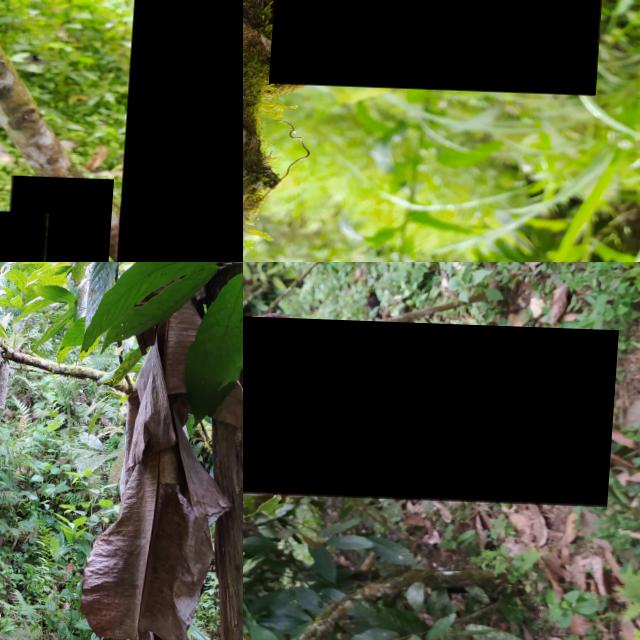Fitoftora: (275, 0, 622, 91)
Monilia: (243, 309, 621, 502)
Sana: (116, 0, 243, 262), (7, 174, 117, 262), (0, 210, 52, 262)
